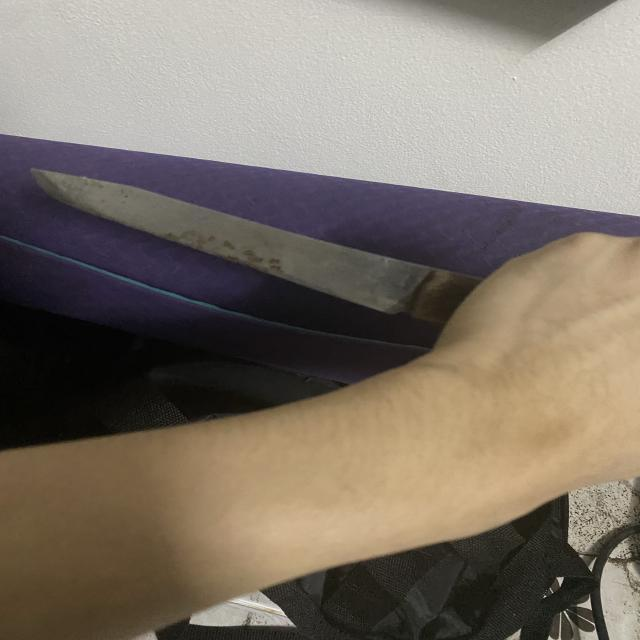faca: (27, 141, 640, 384)
